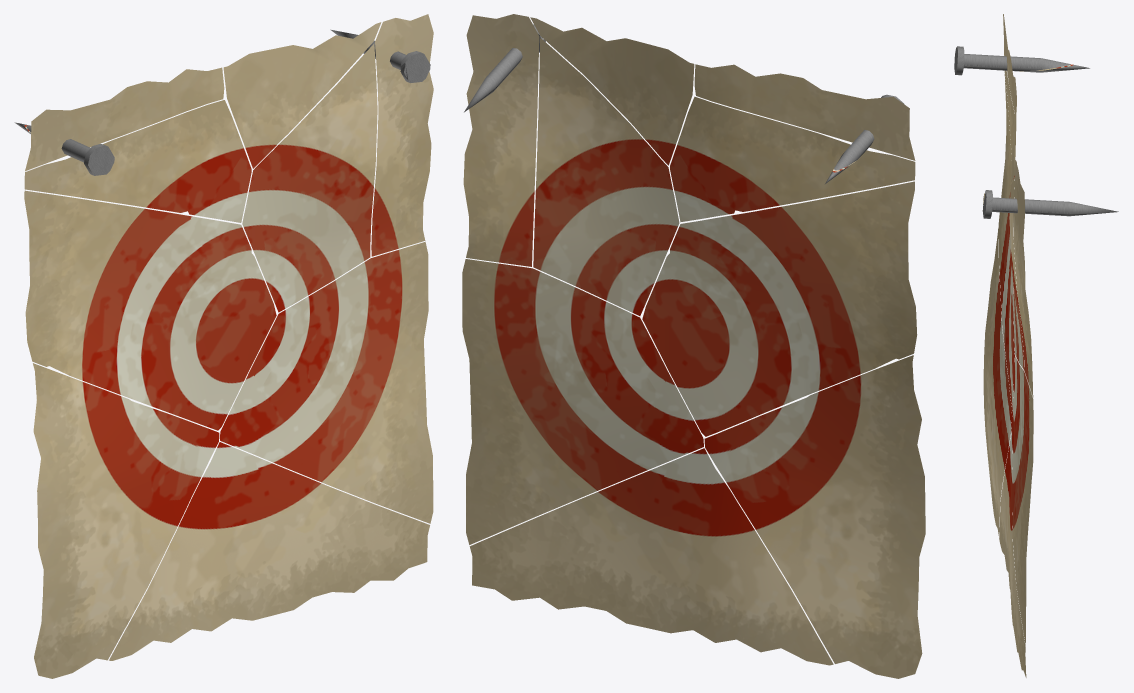
Rendered from ExplodingTarget_Pieces.glb.
3 views of the same model, side by side, from view 1: azimuth 30°, elevation 25°; view 2: azimuth 150°, elevation 25°; view 3: azimuth 270°, elevation 25° (orthographic). The views are drawn at different scales.
Visible parts, largest first — view 1: Target_cell.007, Target_cell.001, Target_cell.003, Target_cell.005, Target_cell.002, Target_cell.010, Target_cell.012, Target_cell.000, Target_cell.011, Target_cell.006, Target_cell.008; view 2: Target_cell.007, Target_cell.001, Target_cell.003, Target_cell.005, Target_cell.002, Target_cell.010, Target_cell.012, Target_cell.000, Target_cell.011, Target_cell.008, Target_cell.006; view 3: Target_cell.003, Target_cell.001, Target_cell.007, Target_cell.005, Target_cell.012, Target_cell.008, Target_cell.006, Target_cell.002, Target_cell.011, Target_cell.010.
Boxes of the visible parts, left/top/right/bottom form: Target_cell.007: left=24, top=190, right=276, bottom=430; Target_cell.001: left=220, top=241, right=433, bottom=523; Target_cell.003: left=33, top=363, right=219, bottom=678; Target_cell.005: left=109, top=442, right=429, bottom=660; Target_cell.002: left=242, top=43, right=377, bottom=312; Target_cell.010: left=24, top=100, right=251, bottom=222; Target_cell.012: left=371, top=14, right=433, bottom=256; Target_cell.000: left=223, top=22, right=381, bottom=168; Target_cell.011: left=25, top=67, right=224, bottom=171; Target_cell.006: left=26, top=125, right=114, bottom=175; Target_cell.008: left=330, top=29, right=430, bottom=83; Target_cell.007: left=642, top=181, right=917, bottom=436; Target_cell.001: left=462, top=259, right=703, bottom=544; Target_cell.003: left=704, top=355, right=925, bottom=678; Target_cell.005: left=469, top=448, right=833, bottom=665; Target_cell.002: left=533, top=38, right=679, bottom=315; Target_cell.010: left=670, top=96, right=915, bottom=222; Target_cell.012: left=463, top=14, right=539, bottom=266; Target_cell.000: left=530, top=17, right=694, bottom=165; Target_cell.011: left=694, top=64, right=915, bottom=160; Target_cell.008: left=464, top=24, right=542, bottom=112; Target_cell.006: left=834, top=94, right=904, bottom=170; Target_cell.003: left=983, top=228, right=1011, bottom=537; Target_cell.001: left=1011, top=354, right=1033, bottom=645; Target_cell.007: left=998, top=74, right=1014, bottom=415; Target_cell.005: left=999, top=429, right=1026, bottom=677; Target_cell.012: left=1013, top=165, right=1033, bottom=397; Target_cell.008: left=982, top=190, right=1118, bottom=218; Target_cell.006: left=954, top=46, right=1070, bottom=75; Target_cell.002: left=1009, top=177, right=1024, bottom=369; Target_cell.011: left=1003, top=14, right=1016, bottom=126; Target_cell.010: left=1004, top=70, right=1016, bottom=226.
Size of the model in its own units: 0.7361 by 0.9457 by 0.2827.
1 material, 1 textured.
